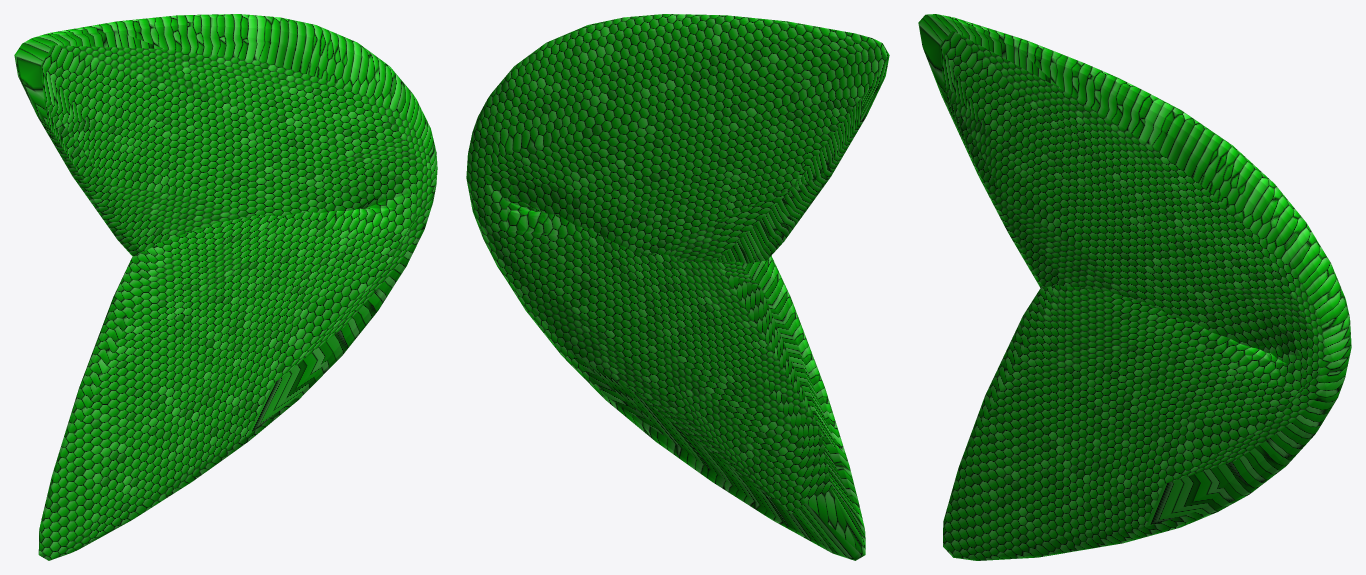
The model's file is Fish5_Tail_new1.dae.
3 views of the same model, side by side, from view 1: azimuth 30°, elevation 25°; view 2: azimuth 150°, elevation 25°; view 3: azimuth 330°, elevation 25° (orthographic). The views are drawn at different scales.
Visible parts, largest first — view 1: Cube_012; view 2: Cube_012; view 3: Cube_012.
Boxes of the visible parts, x1,y1,x2,y2 form: Cube_012: [14, 14, 437, 560]; Cube_012: [466, 14, 889, 560]; Cube_012: [918, 14, 1351, 560].
Bounding box in the file's own units: 1.4 × 0.1475 × 1.68.
1 material, 1 textured.
